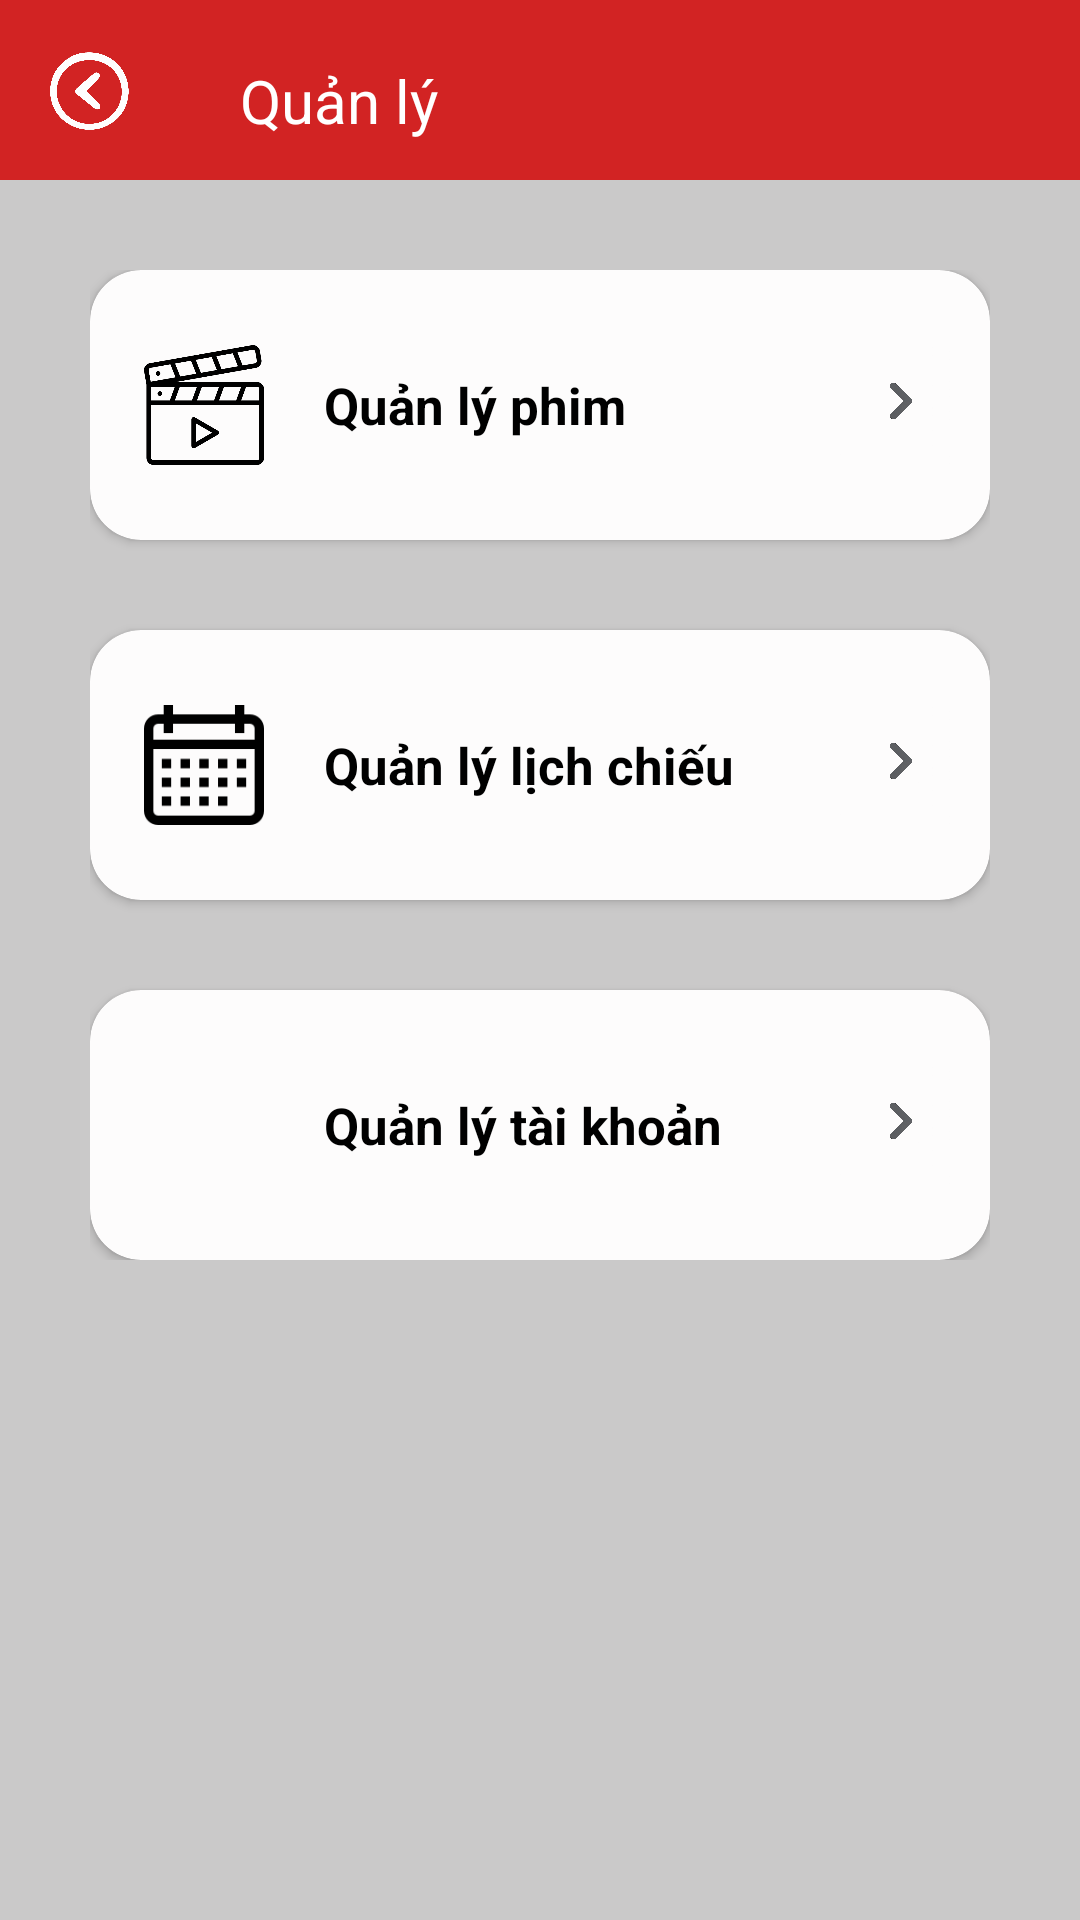

Named icons in this screenshot (1080 × 1920) and their bounding boxes, (x1, y1, x2, y2):
film: (144, 345, 264, 465)
lichphim: (144, 705, 264, 825)
